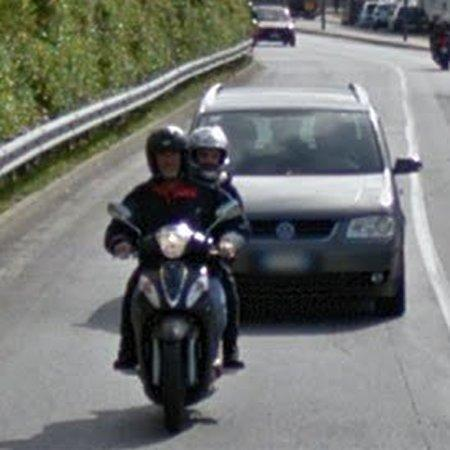motorcycles: (108, 200, 242, 431)
